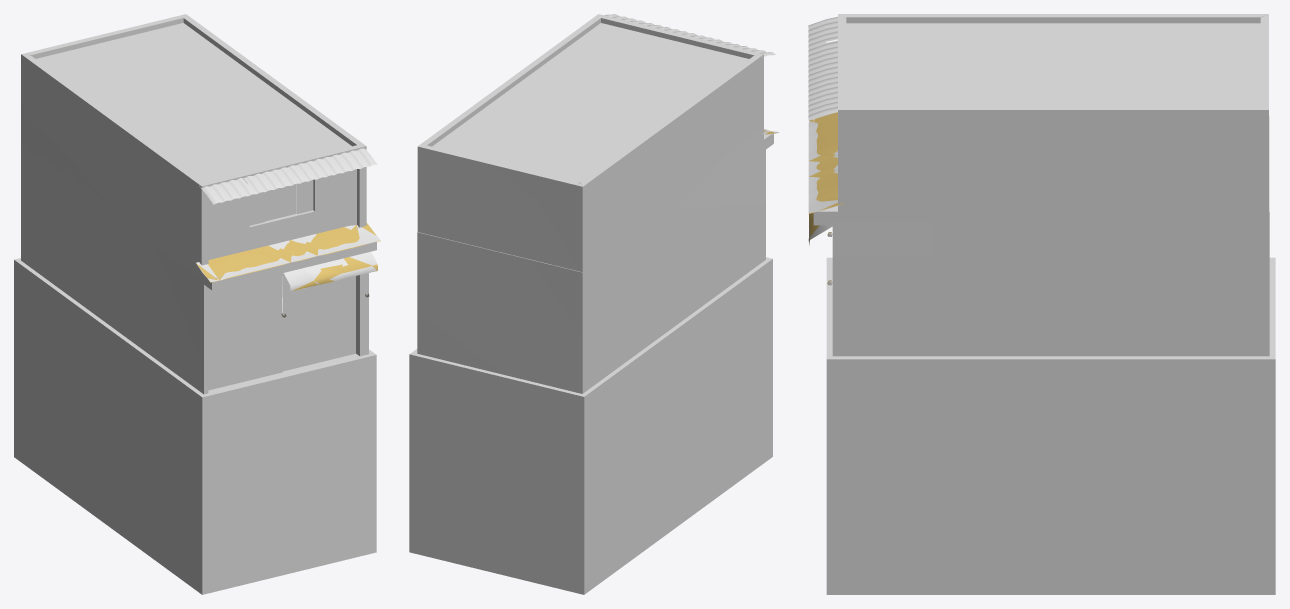
The model's file is CASA8.fbx.
The picture shows the model from 3 angles, left to right: view 1: azimuth 30°, elevation 25°; view 2: azimuth 150°, elevation 25°; view 3: azimuth 270°, elevation 25°; orthographic projection. The views are drawn at different scales.
Parts seen in each view (by area): view 1: CASA8_LOD0, CUBE_LOD0, UTM_CASA8; view 2: CASA8_LOD0, CUBE_LOD0; view 3: CASA8_LOD0, CUBE_LOD0, UTM_CASA8.
Boxes of the visible parts, x1=… form: CASA8_LOD0: x1=21, y1=14, x2=380, y2=394; CUBE_LOD0: x1=14, y1=258, x2=376, y2=594; UTM_CASA8: x1=196, y1=223, x2=380, y2=317; CASA8_LOD0: x1=417, y1=14, x2=778, y2=393; CUBE_LOD0: x1=409, y1=257, x2=772, y2=594; CASA8_LOD0: x1=808, y1=14, x2=1269, y2=356; CUBE_LOD0: x1=826, y1=257, x2=1275, y2=594; UTM_CASA8: x1=808, y1=112, x2=844, y2=283.
Size of what is drawn, in the model's own units: 660 by 1462 by 1285.
